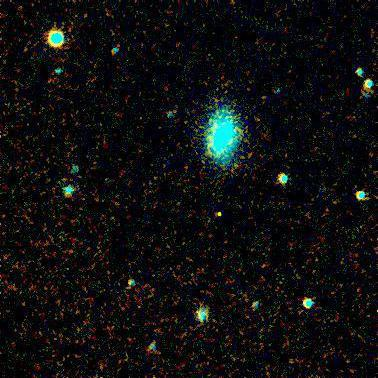star: (203, 199, 233, 229)
